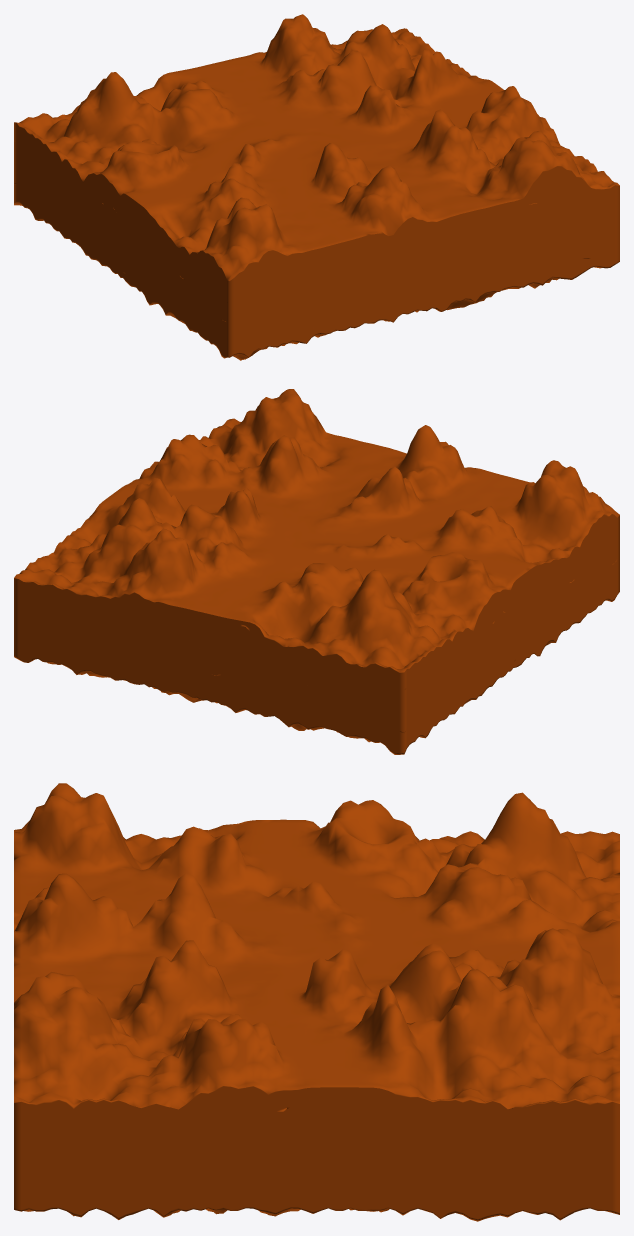
File: platform.glb
The picture shows the model from 3 angles, top to bottom: view 1: azimuth 30°, elevation 25°; view 2: azimuth 150°, elevation 25°; view 3: azimuth 270°, elevation 25°; orthographic projection. The views are drawn at different scales.
Parts seen in each view (by area): view 1: Cube.002; view 2: Cube.002; view 3: Cube.002.
Boxes of the visible parts, x1,y1,x2,y2 form: Cube.002: (14,14,619,360); Cube.002: (14,389,619,754); Cube.002: (14,783,619,1221).
Size of the model in its own units: 5.36 by 2.07 by 5.13.
